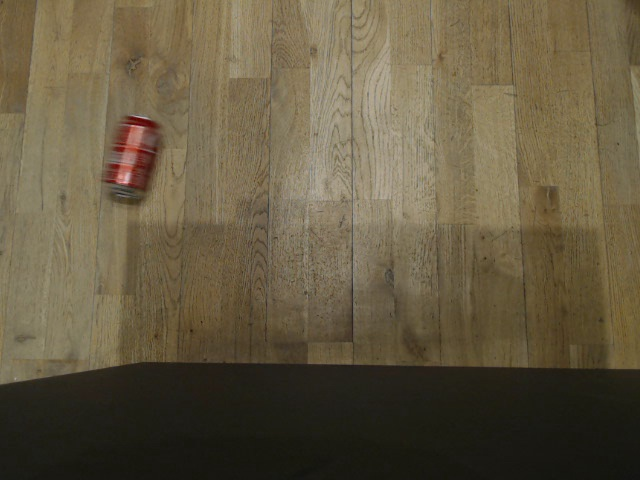coke: (103, 114, 160, 200)
